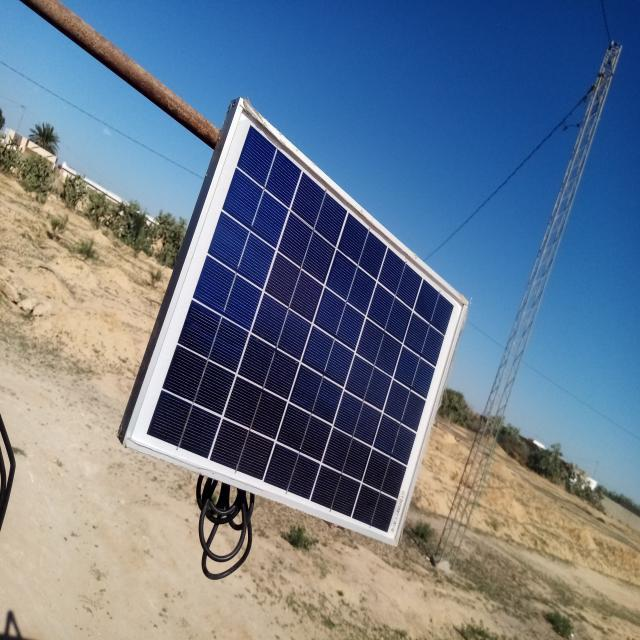no faulty: (122, 105, 468, 544)
